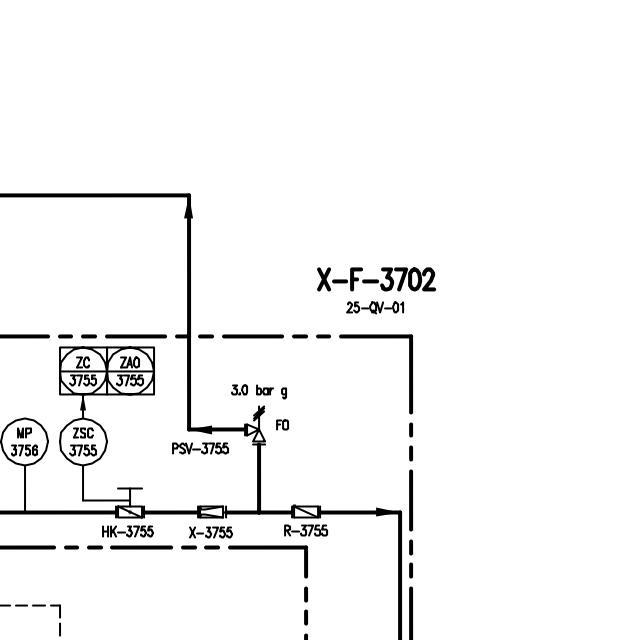BV: (112, 481, 149, 521)
CV2: (288, 502, 323, 521)
LM: (194, 502, 230, 522)
RPV: (243, 403, 270, 450)
